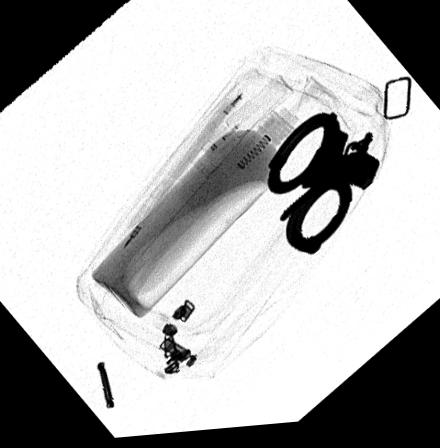HandCuffs: (268, 115, 381, 261)
